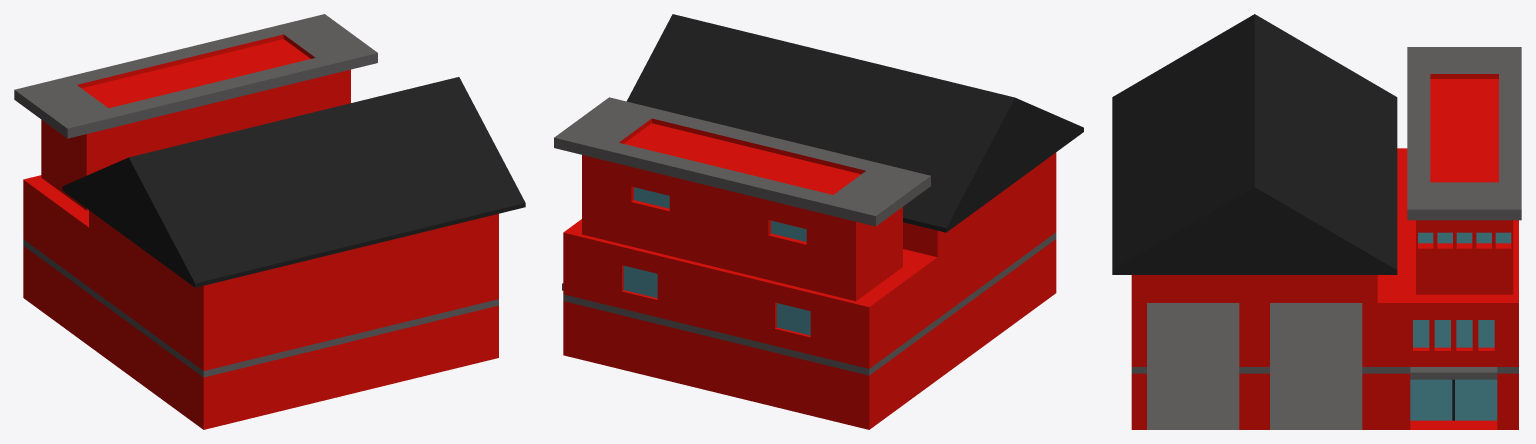
The model's file is damkar.glb.
3 views of the same model, side by side, from view 1: azimuth 30°, elevation 25°; view 2: azimuth 150°, elevation 25°; view 3: azimuth 270°, elevation 25° (orthographic). The views are drawn at different scales.
Parts seen in each view (by area): view 1: FireStation; view 2: FireStation; view 3: FireStation.
Boxes of the visible parts, left/top/right/bottom form: FireStation: left=14, top=14, right=525, bottom=429; FireStation: left=554, top=14, right=1083, bottom=429; FireStation: left=1112, top=14, right=1521, bottom=429.
Size of the model in its own units: 124 by 84.23 by 124.
